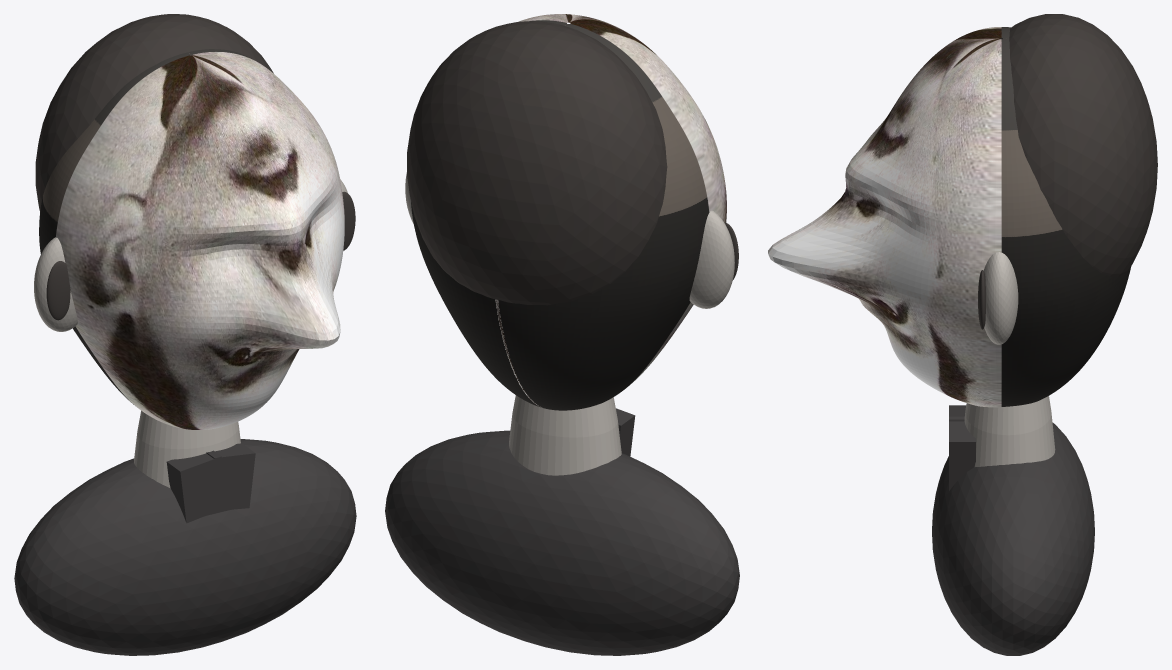
File: vo_nguyen_giap_face.glb
The picture shows the model from 3 angles, left to right: view 1: azimuth 30°, elevation 25°; view 2: azimuth 150°, elevation 25°; view 3: azimuth 270°, elevation 25°; orthographic projection. The views are drawn at different scales.
Visible parts, largest first — view 1: Head, Uniform bust, Rear hair mass, Neck, Right collar, Left collar, Left ear, Left ear inner, Right ear inner; view 2: Rear hair mass, Uniform bust, Head, Neck, Left ear, Left collar; view 3: Head, Rear hair mass, Uniform bust, Neck, Right ear, Right collar.
Boxes of the visible parts, x1=… form: Head: x1=39, y1=49, x2=344, y2=429; Uniform bust: x1=14, y1=439, x2=356, y2=655; Rear hair mass: x1=35, y1=14, x2=273, y2=211; Neck: x1=134, y1=410, x2=240, y2=488; Right collar: x1=206, y1=443, x2=255, y2=515; Left collar: x1=166, y1=450, x2=223, y2=523; Left ear: x1=34, y1=237, x2=77, y2=331; Left ear inner: x1=46, y1=261, x2=70, y2=320; Right ear inner: x1=342, y1=191, x2=355, y2=250; Rear hair mass: x1=407, y1=21, x2=667, y2=305; Uniform bust: x1=385, y1=430, x2=739, y2=655; Head: x1=411, y1=14, x2=726, y2=410; Neck: x1=509, y1=395, x2=621, y2=475; Left ear: x1=689, y1=210, x2=734, y2=308; Left collar: x1=616, y1=408, x2=635, y2=456; Head: x1=768, y1=27, x2=1131, y2=407; Rear hair mass: x1=1000, y1=14, x2=1157, y2=276; Uniform bust: x1=932, y1=423, x2=1094, y2=655; Neck: x1=964, y1=396, x2=1055, y2=466; Right ear: x1=983, y1=252, x2=1018, y2=344; Right collar: x1=949, y1=416, x2=975, y2=490.
Size of the model in its own units: 2.24 by 3.91 by 2.29.
4 materials, 1 textured.
